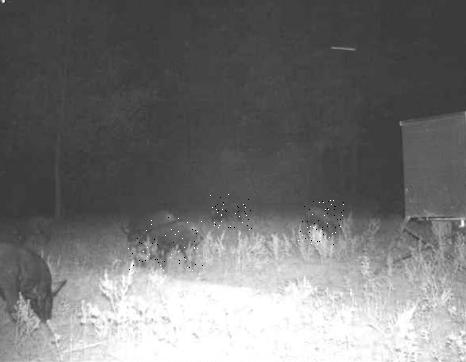Hog: (0, 234, 69, 335), (128, 215, 211, 272), (298, 200, 344, 245), (210, 194, 253, 230)
